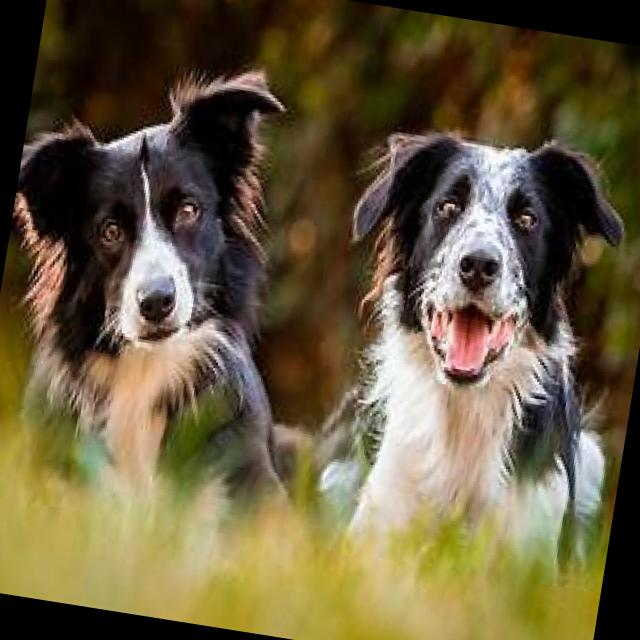animal: (0, 33, 356, 538), (296, 119, 640, 602)
